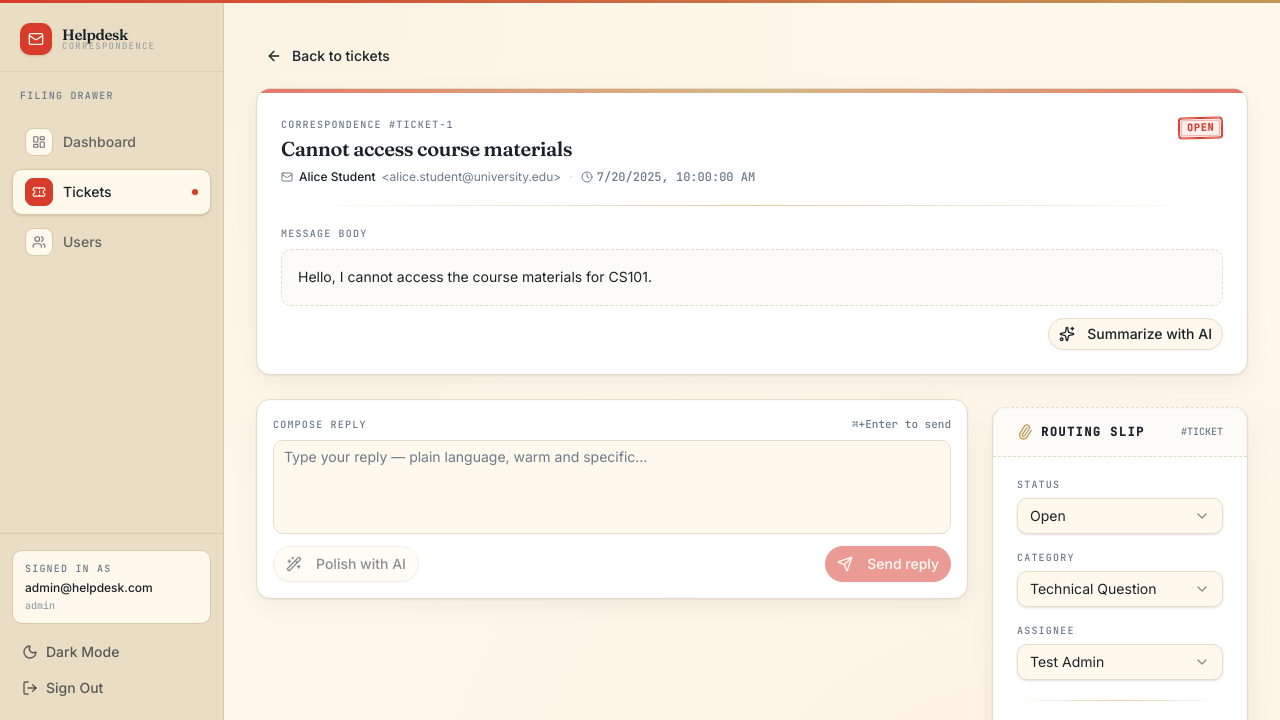
it: TicketDetailPage mutations › renders the assignee select with agent options
The image size is (1280, 720).
Click the dropdown named "Assigned To".
click(1120, 662)  # box [1017,644,1223,680]
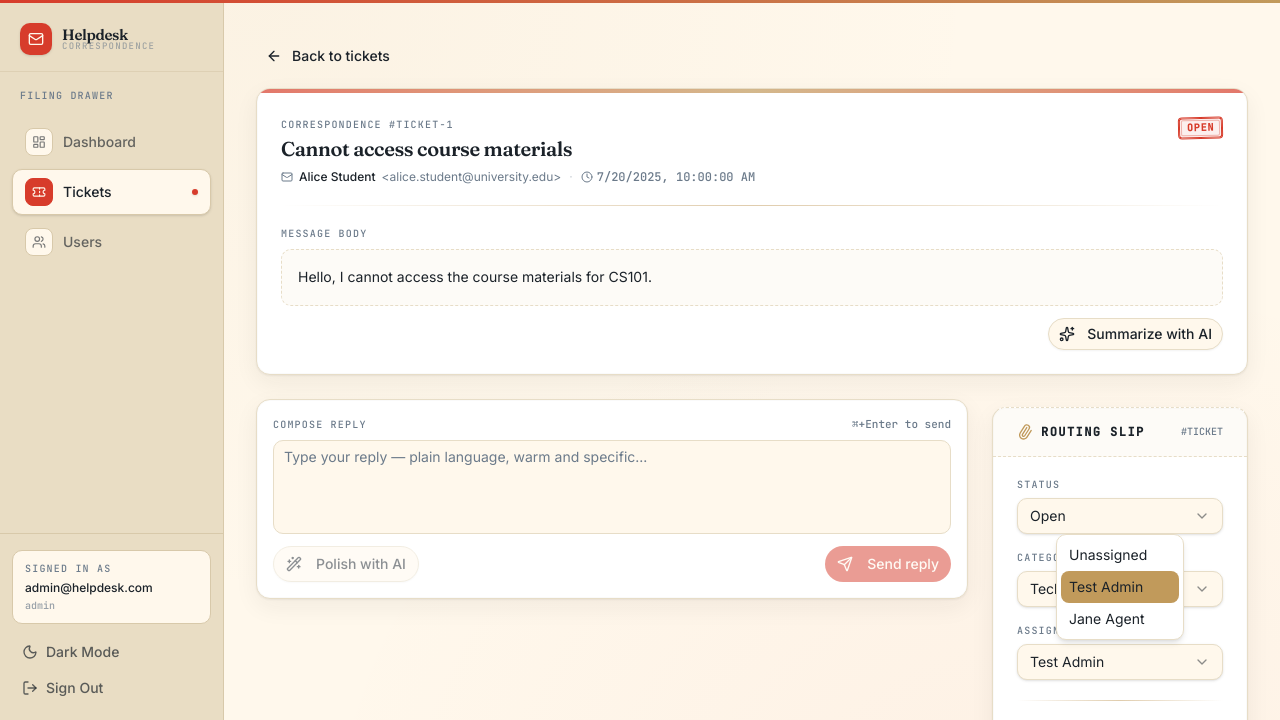
Now the option "Unassigned" is shown, box [1069,546,1147,563]
Now the option "Jane Agent" is shown, box [1069,610,1144,627]
